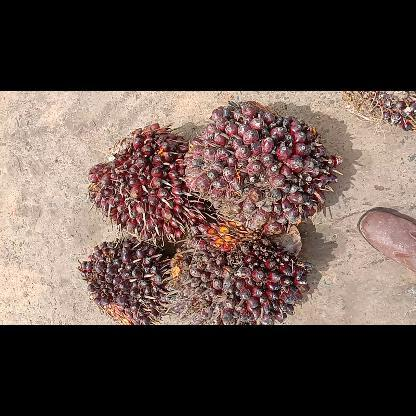Kurang masak: (162, 216, 314, 324), (85, 120, 213, 242)
TBS mentah: (181, 97, 344, 237), (76, 232, 172, 324)
